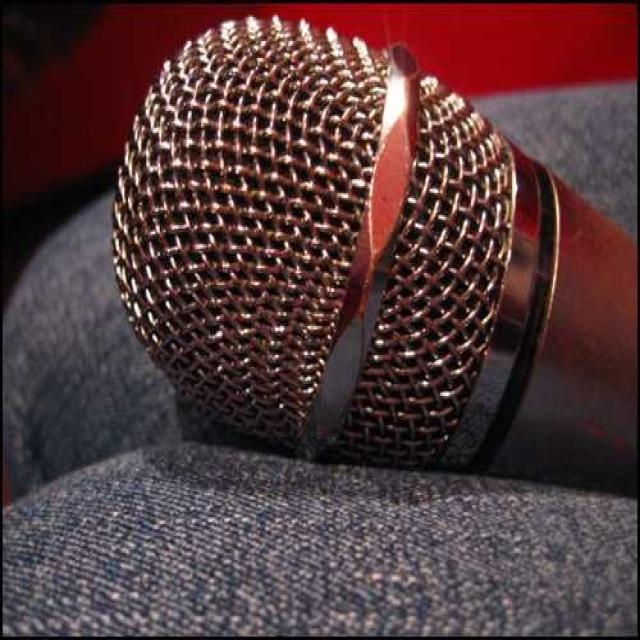microphone: (113, 20, 632, 510)
